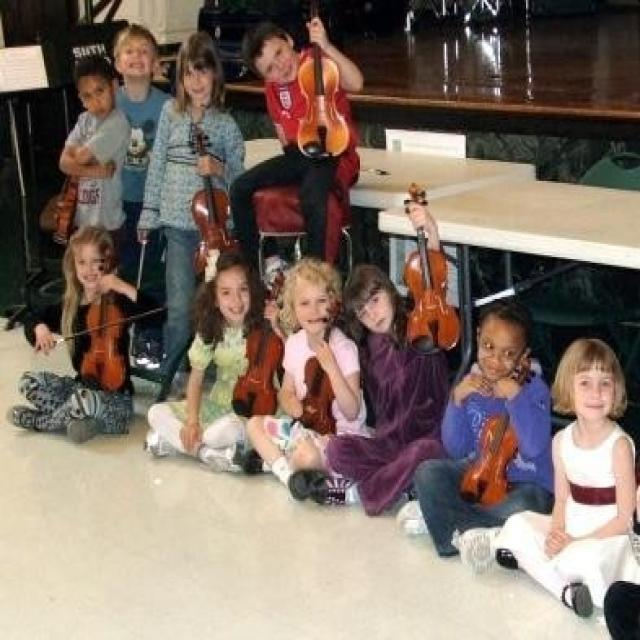violin: (456, 357, 538, 510), (400, 181, 462, 359), (294, 0, 354, 163), (230, 270, 290, 421), (76, 248, 135, 388), (188, 126, 238, 284), (290, 298, 343, 434), (52, 158, 82, 246)
